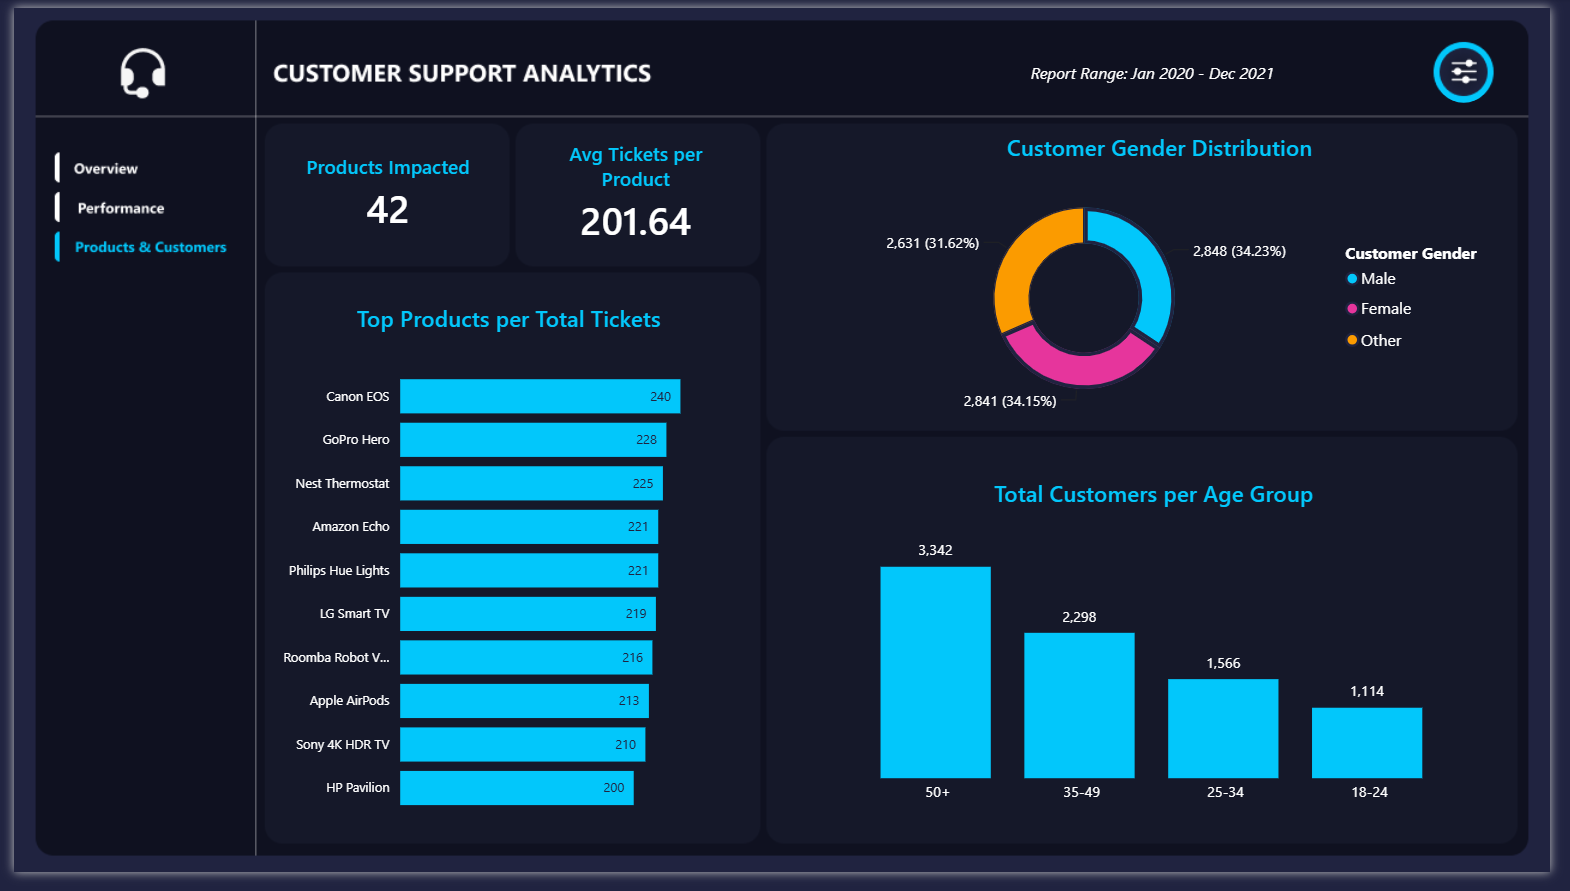

The page's visual inventory and layout, read from the dashboard file:
{"tool":"powerbi","page":{"name":"Products & Customers","canvas":[1280,720],"ordinal":2},"visuals":[{"type":"cardVisual","fields":{"Data":["_Measures.Report Period"]},"box":[817.9,23.6,315.6,60],"z":0},{"type":"clusteredBarChart","title":"Top Products per Total Tickets","fields":{"Category":["dim_products.product_name"],"Y":["_Measures.Total Tickets"]},"box":[205.5,245.8,412.9,438.5],"z":1000},{"type":"clusteredColumnChart","title":"Total Customers per Age Group","fields":{"Category":["dim_customers.Age Group"],"Y":["_Measures.Unique Customers"]},"box":[669.5,391.3,561.4,280.2],"z":2000},{"type":"donutChart","title":"Customer Gender Distribution","fields":{"Category":["dim_customers.customer_gender"],"Y":["_Measures.Unique Customers"]},"box":[669.5,103.2,571.2,240.9],"z":3000},{"type":"cardVisual","fields":{"Data":["_Measures.Products Impacted"]},"box":[211.4,103.2,200.6,102.2],"z":4000},{"type":"cardVisual","fields":{"Data":["_Measures.Avg Tickets per Product"]},"box":[418.8,94.4,198.6,119.9],"z":5000},{"type":"actionButton","box":[32.2,117.4,142.3,31.2],"z":7000},{"type":"actionButton","box":[32.2,151.7,142.3,31.2],"z":8000},{"type":"actionButton","box":[32.2,186,151.7,31.2],"z":9000},{"type":"actionButton","box":[1184.4,29.1,47.8,49.9],"z":10000}]}

Visuals, with their boxes in screenshot pixels (x1, y1, x2, y2), scaled from the page's 1280x720 canvas onto the 1570x891 screenshot:
cardVisual - _Measures.Report Period: box(1003, 29, 1390, 103)
"Top Products per Total Tickets" clusteredBarChart: box(252, 304, 759, 847)
"Total Customers per Age Group" clusteredColumnChart: box(821, 484, 1510, 831)
"Customer Gender Distribution" donutChart: box(821, 128, 1522, 426)
cardVisual - _Measures.Products Impacted: box(259, 128, 505, 254)
cardVisual - _Measures.Avg Tickets per Product: box(514, 117, 757, 265)
actionButton: box(39, 145, 214, 184)
actionButton: box(39, 188, 214, 226)
actionButton: box(39, 230, 226, 269)
actionButton: box(1453, 36, 1511, 98)
